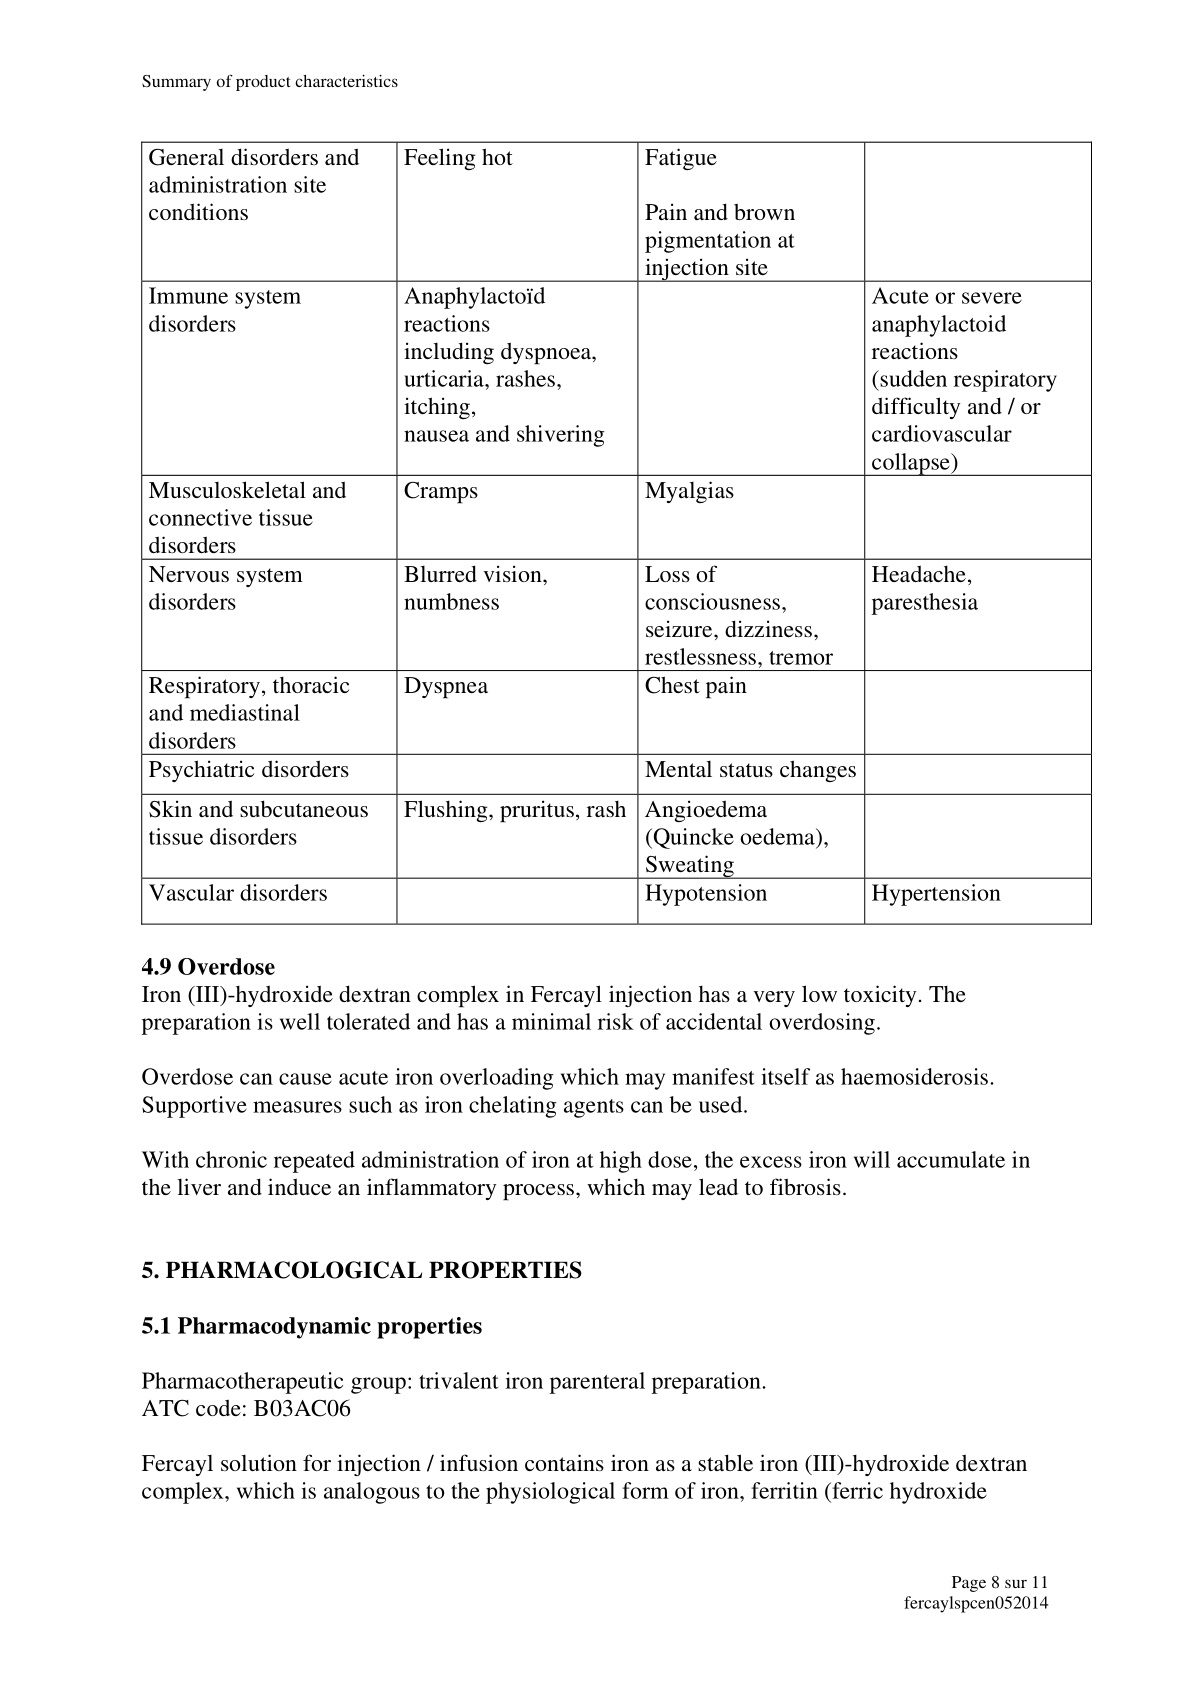full_lined: (140, 140, 1093, 926)
